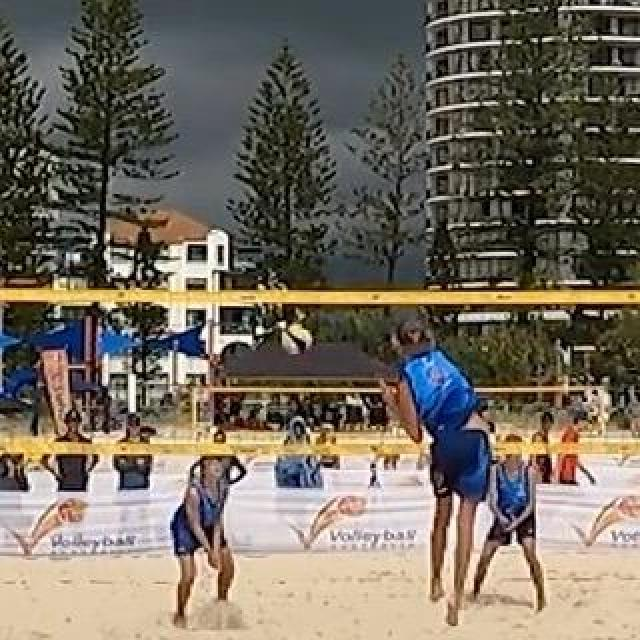volleyball: (282, 325, 312, 355)
